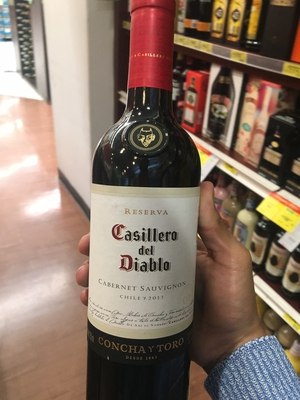casillero del diablo cabernet sauvignon: (82, 14, 199, 400)
